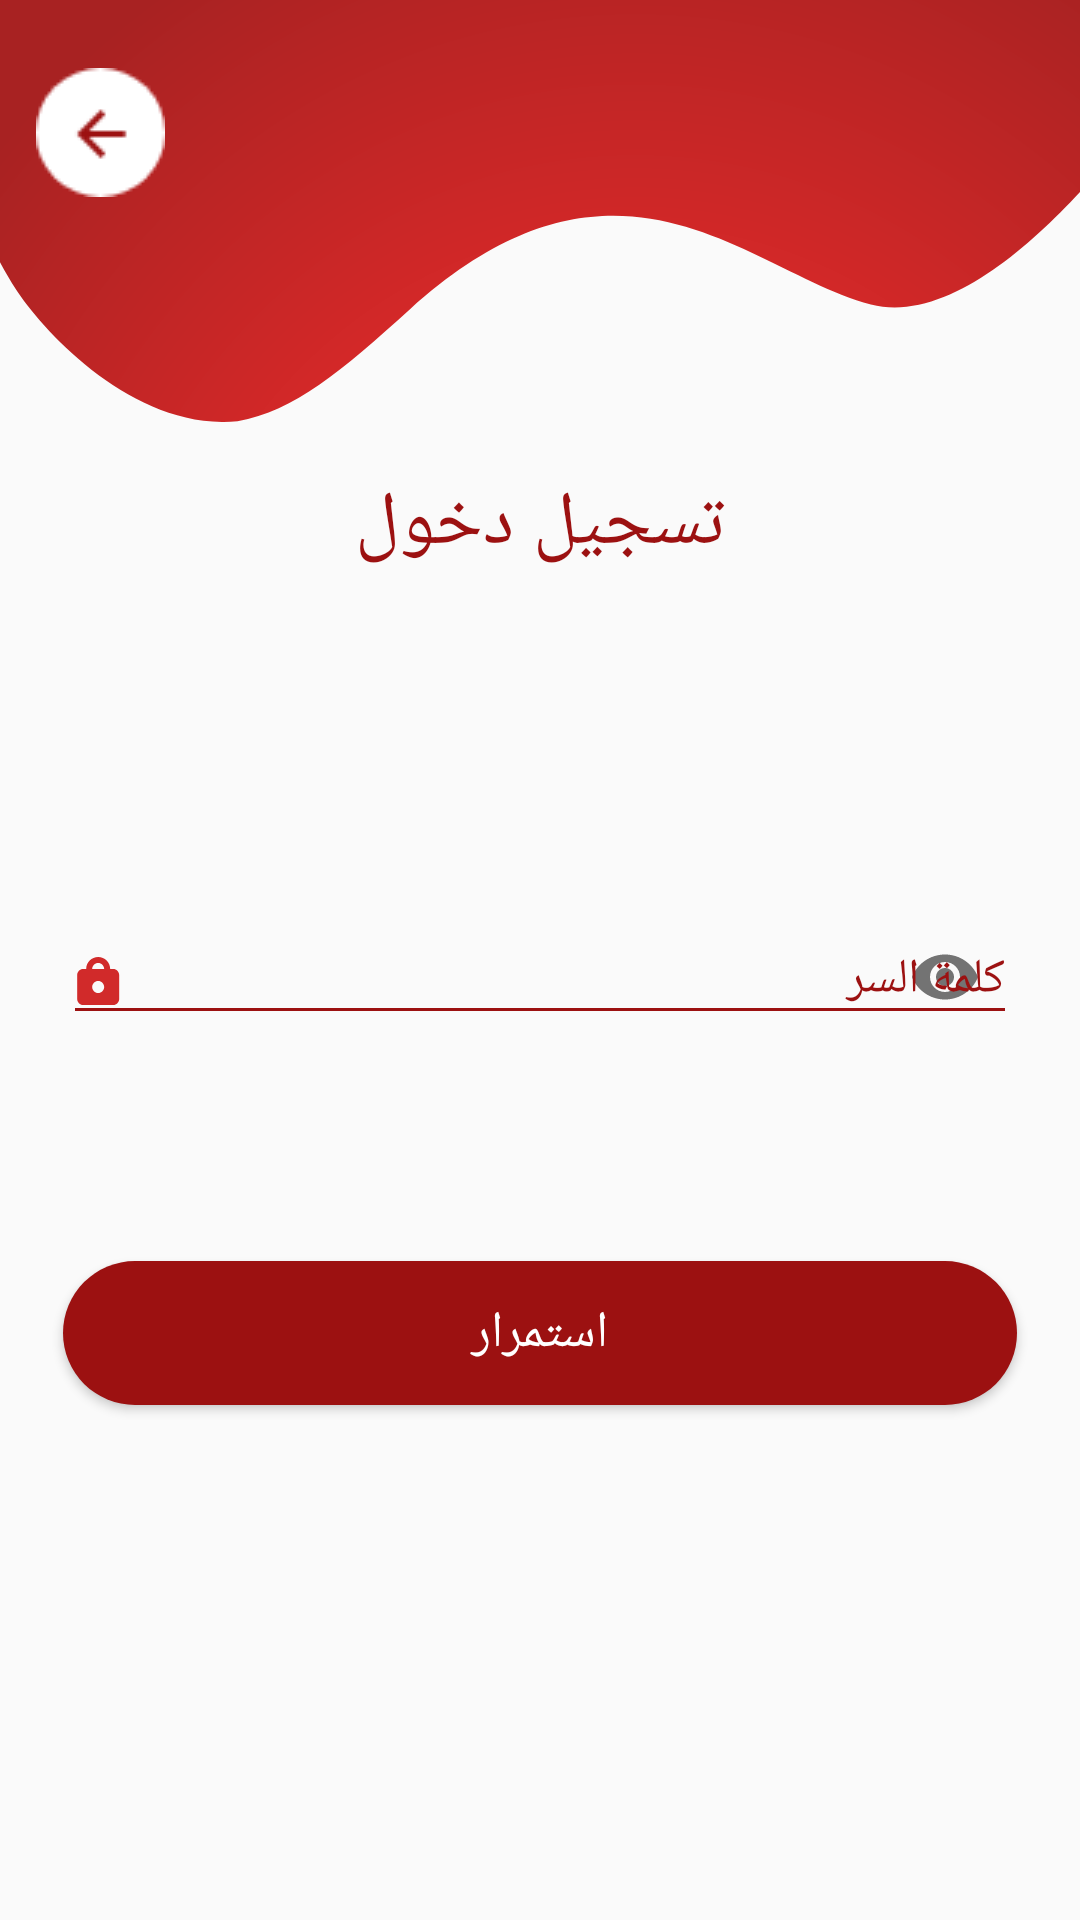

Named icons in this screenshot (1080px×1920px) and their bounding boxes, (x1, y1, x2, y2):
back oval: (36, 68, 165, 197)
